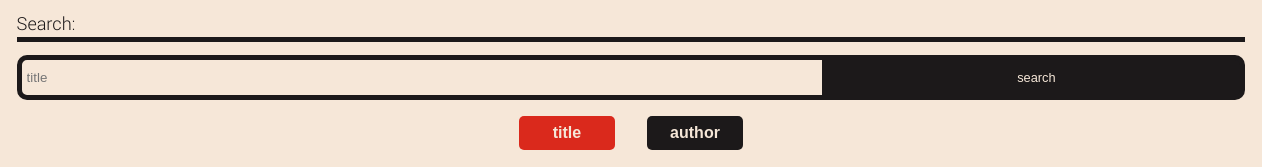
BookSearch page › Should change searchBy component state from "title" to "author" when "author button clicked", and vice versa
This screenshot has width=1262, height=167.
Expected: the field with placeholder "title" is shown, [17,55,828,100]
Click the button with test id "search-by-author-button" at (695, 133), box [647,116,743,150]
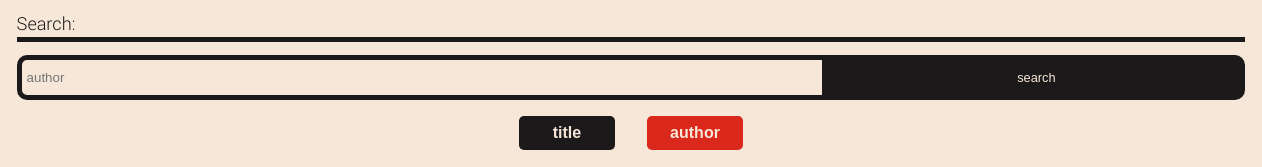
Expected: the field with placeholder "author" is shown, [17,55,828,100]
Click the button with test id "search-by-title-button" at (567, 133), box [519,116,615,150]
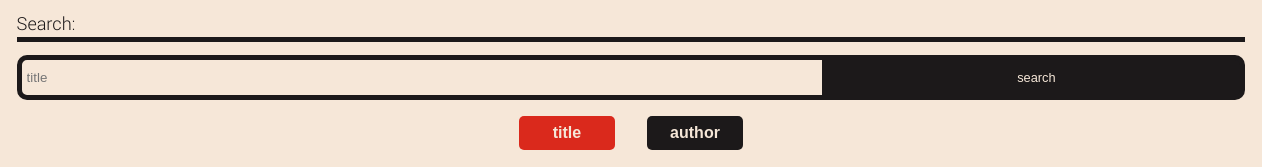
Expected: the field with placeholder "title" is shown, [17,55,828,100]
